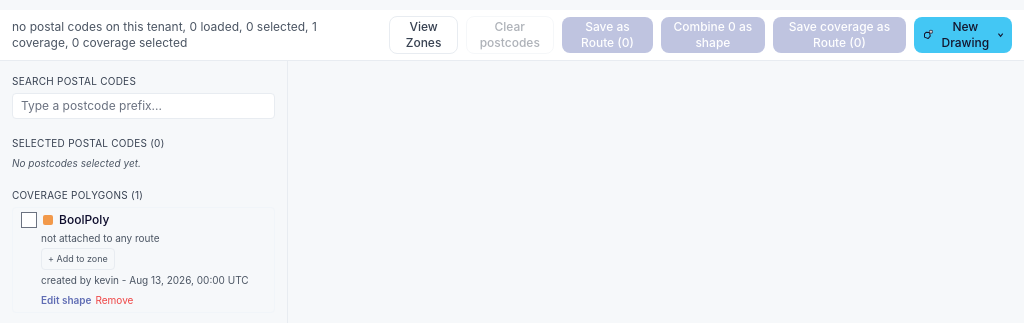
Test: PolygonBuilder - boolean ops (Add / Cut / Clip / Split) › Cut with too-short stroke surfaces "Region too small" error
(page scrolled)
Click the button "Edit shape" at (66, 300), box [41,292,92,308]
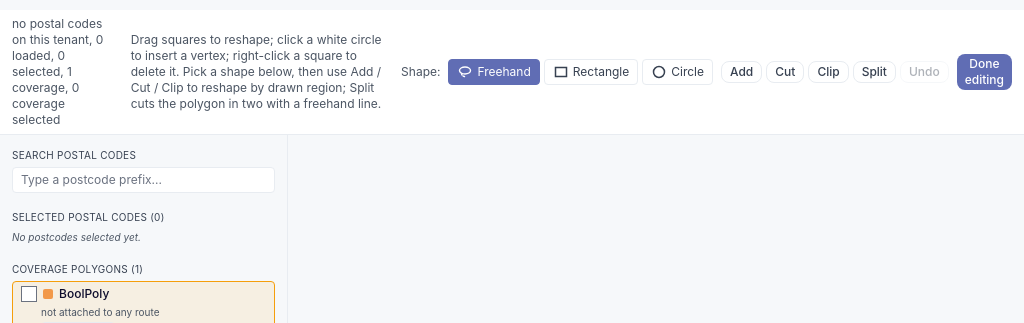
Check: the text "Drag squares to reshape" is shown, box [131,32,382,111]
Click the button "Cut" at (785, 72), box [766,61,804,83]
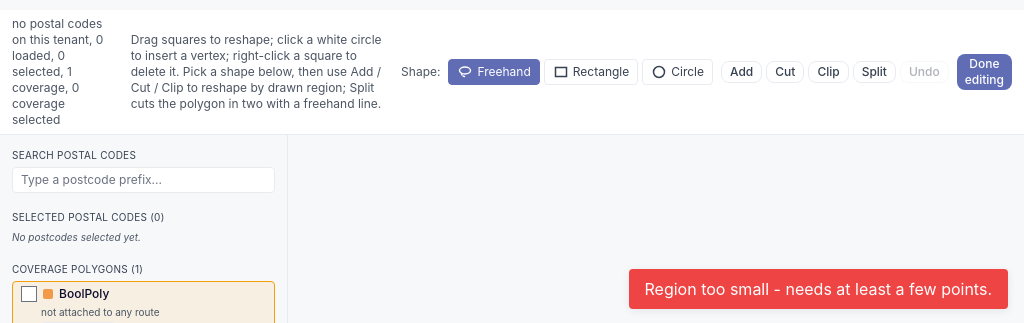
Check: the text "Region too small" is shown, box [644,279,992,299]
